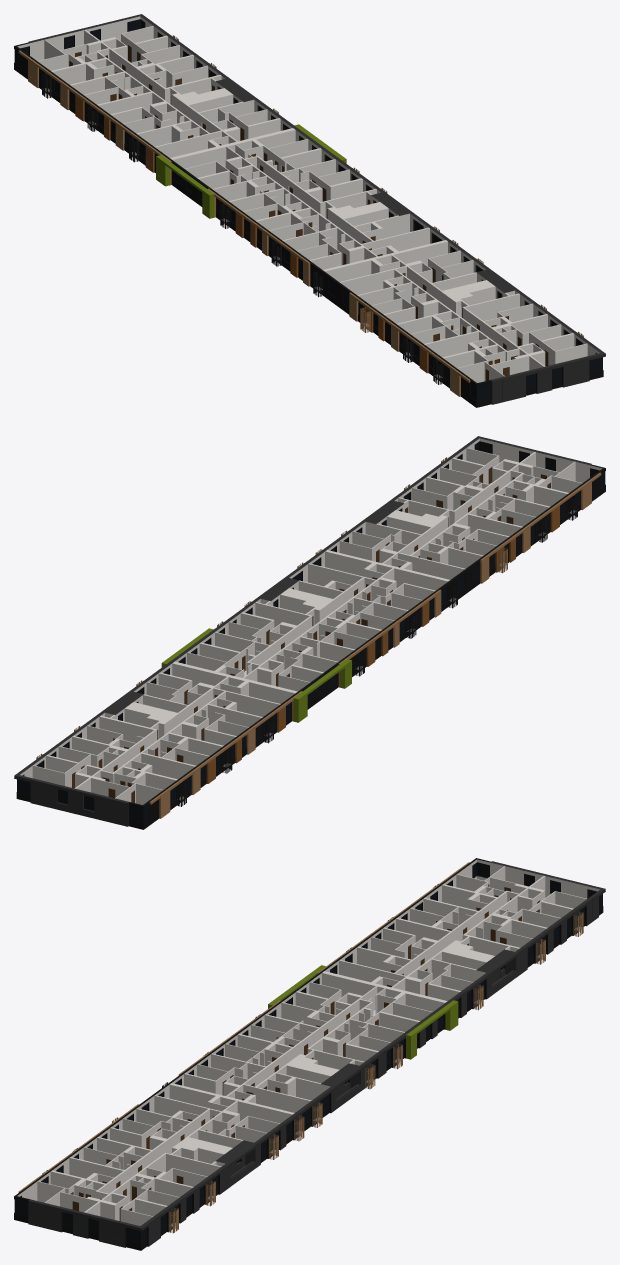
The model's file is floor_7.FBX.
3 renders of one model, top to bottom at view 1: azimuth 30°, elevation 25°; view 2: azimuth 150°, elevation 25°; view 3: azimuth 330°, elevation 25°, orthographic.
Visible parts, largest first — view 1: floor_7; view 2: floor_7; view 3: floor_7.
Boxes of the visible parts, left/top/right/bottom form: floor_7: left=14, top=14, right=605, bottom=407; floor_7: left=14, top=436, right=605, bottom=829; floor_7: left=14, top=858, right=605, bottom=1250.
Bounding box in the file's own units: 18.75 × 3 × 108.
